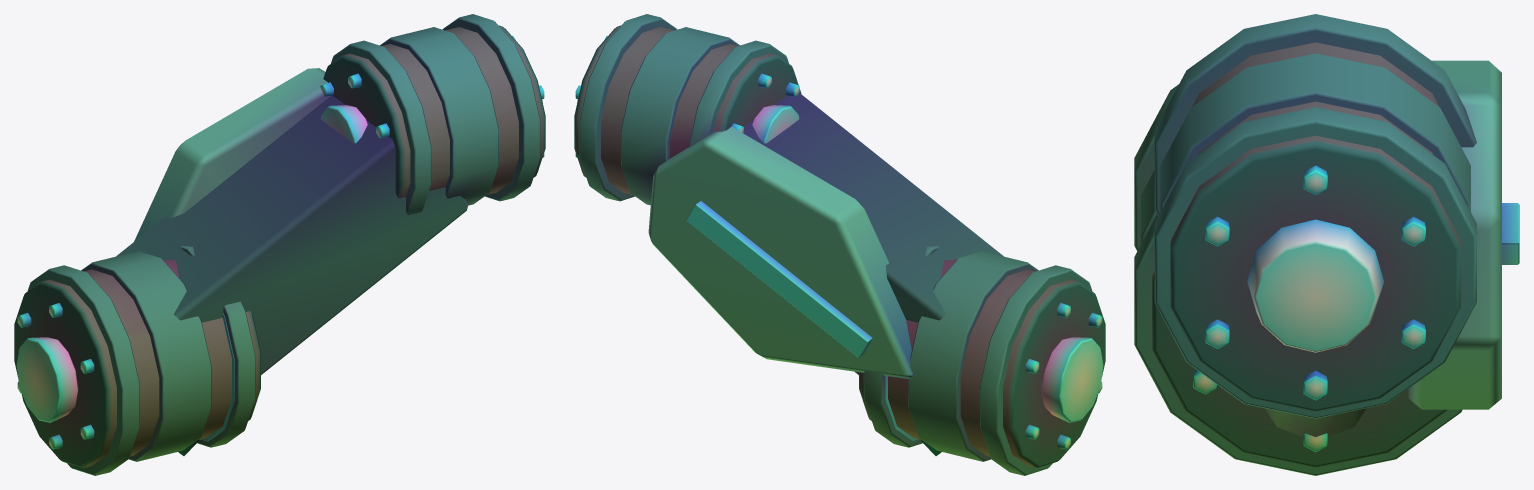
Rendered from kit_boss_femur_r.glb.
3 renders of one model, left to right at view 1: azimuth 30°, elevation 25°; view 2: azimuth 150°, elevation 25°; view 3: azimuth 270°, elevation 25°, orthographic. The views are drawn at different scales.
Parts seen in each view (by area): view 1: Body__dark, Body__gunmetal, Body__armor, Body__chrome; view 2: Body__dark, Body__armor, Body__gunmetal, Body__chrome, Body__emit_core; view 3: Body__dark, Body__gunmetal, Body__chrome, Body__armor, Body__emit_core.
Part boxes in pixels (x1,y1,x2,y2): Body__dark: (14,25,545,467); Body__gunmetal: (27,14,540,475); Body__armor: (134,68,330,241); Body__chrome: (16,35,544,449); Body__dark: (574,25,1105,467); Body__armor: (648,127,912,379); Body__gunmetal: (579,14,1092,475); Body__chrome: (575,35,1103,449); Body__emit_core: (687,201,918,441); Body__dark: (1152,42,1460,467); Body__gunmetal: (1134,14,1476,475); Body__chrome: (1193,165,1425,452); Body__armor: (1408,60,1501,409); Body__emit_core: (1502,203,1519,264).
Bounding box in the file's own units: 1.06 × 0.723 × 0.4138.
